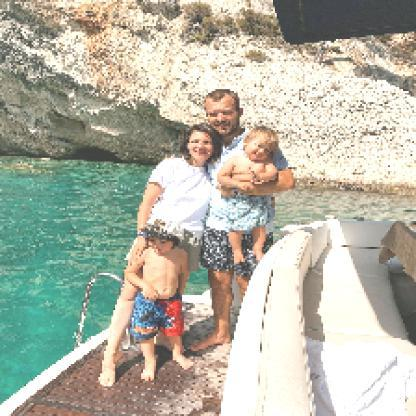child: (125, 215, 196, 382), (218, 127, 283, 270)
